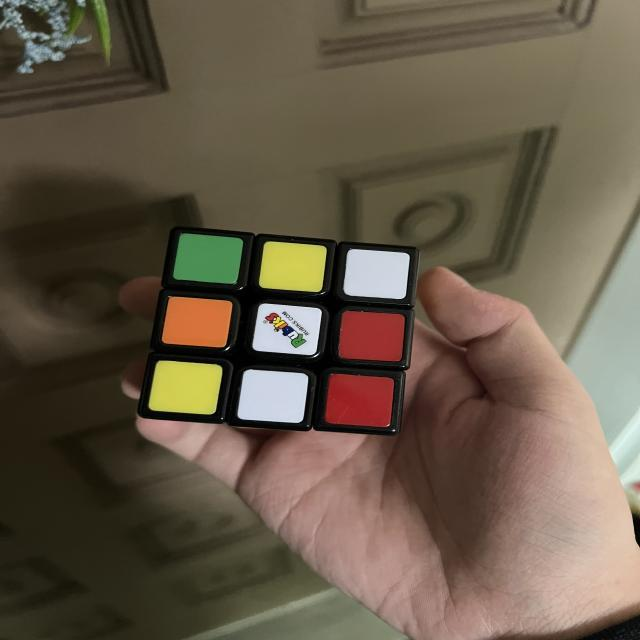center: (251, 302, 323, 357)
green: (172, 232, 243, 286)
orange: (161, 295, 233, 349)
red: (323, 373, 395, 429), (337, 309, 406, 364)
white: (236, 368, 309, 425), (252, 302, 323, 357), (342, 248, 410, 300)
yellow: (148, 359, 223, 416), (258, 240, 328, 294)
